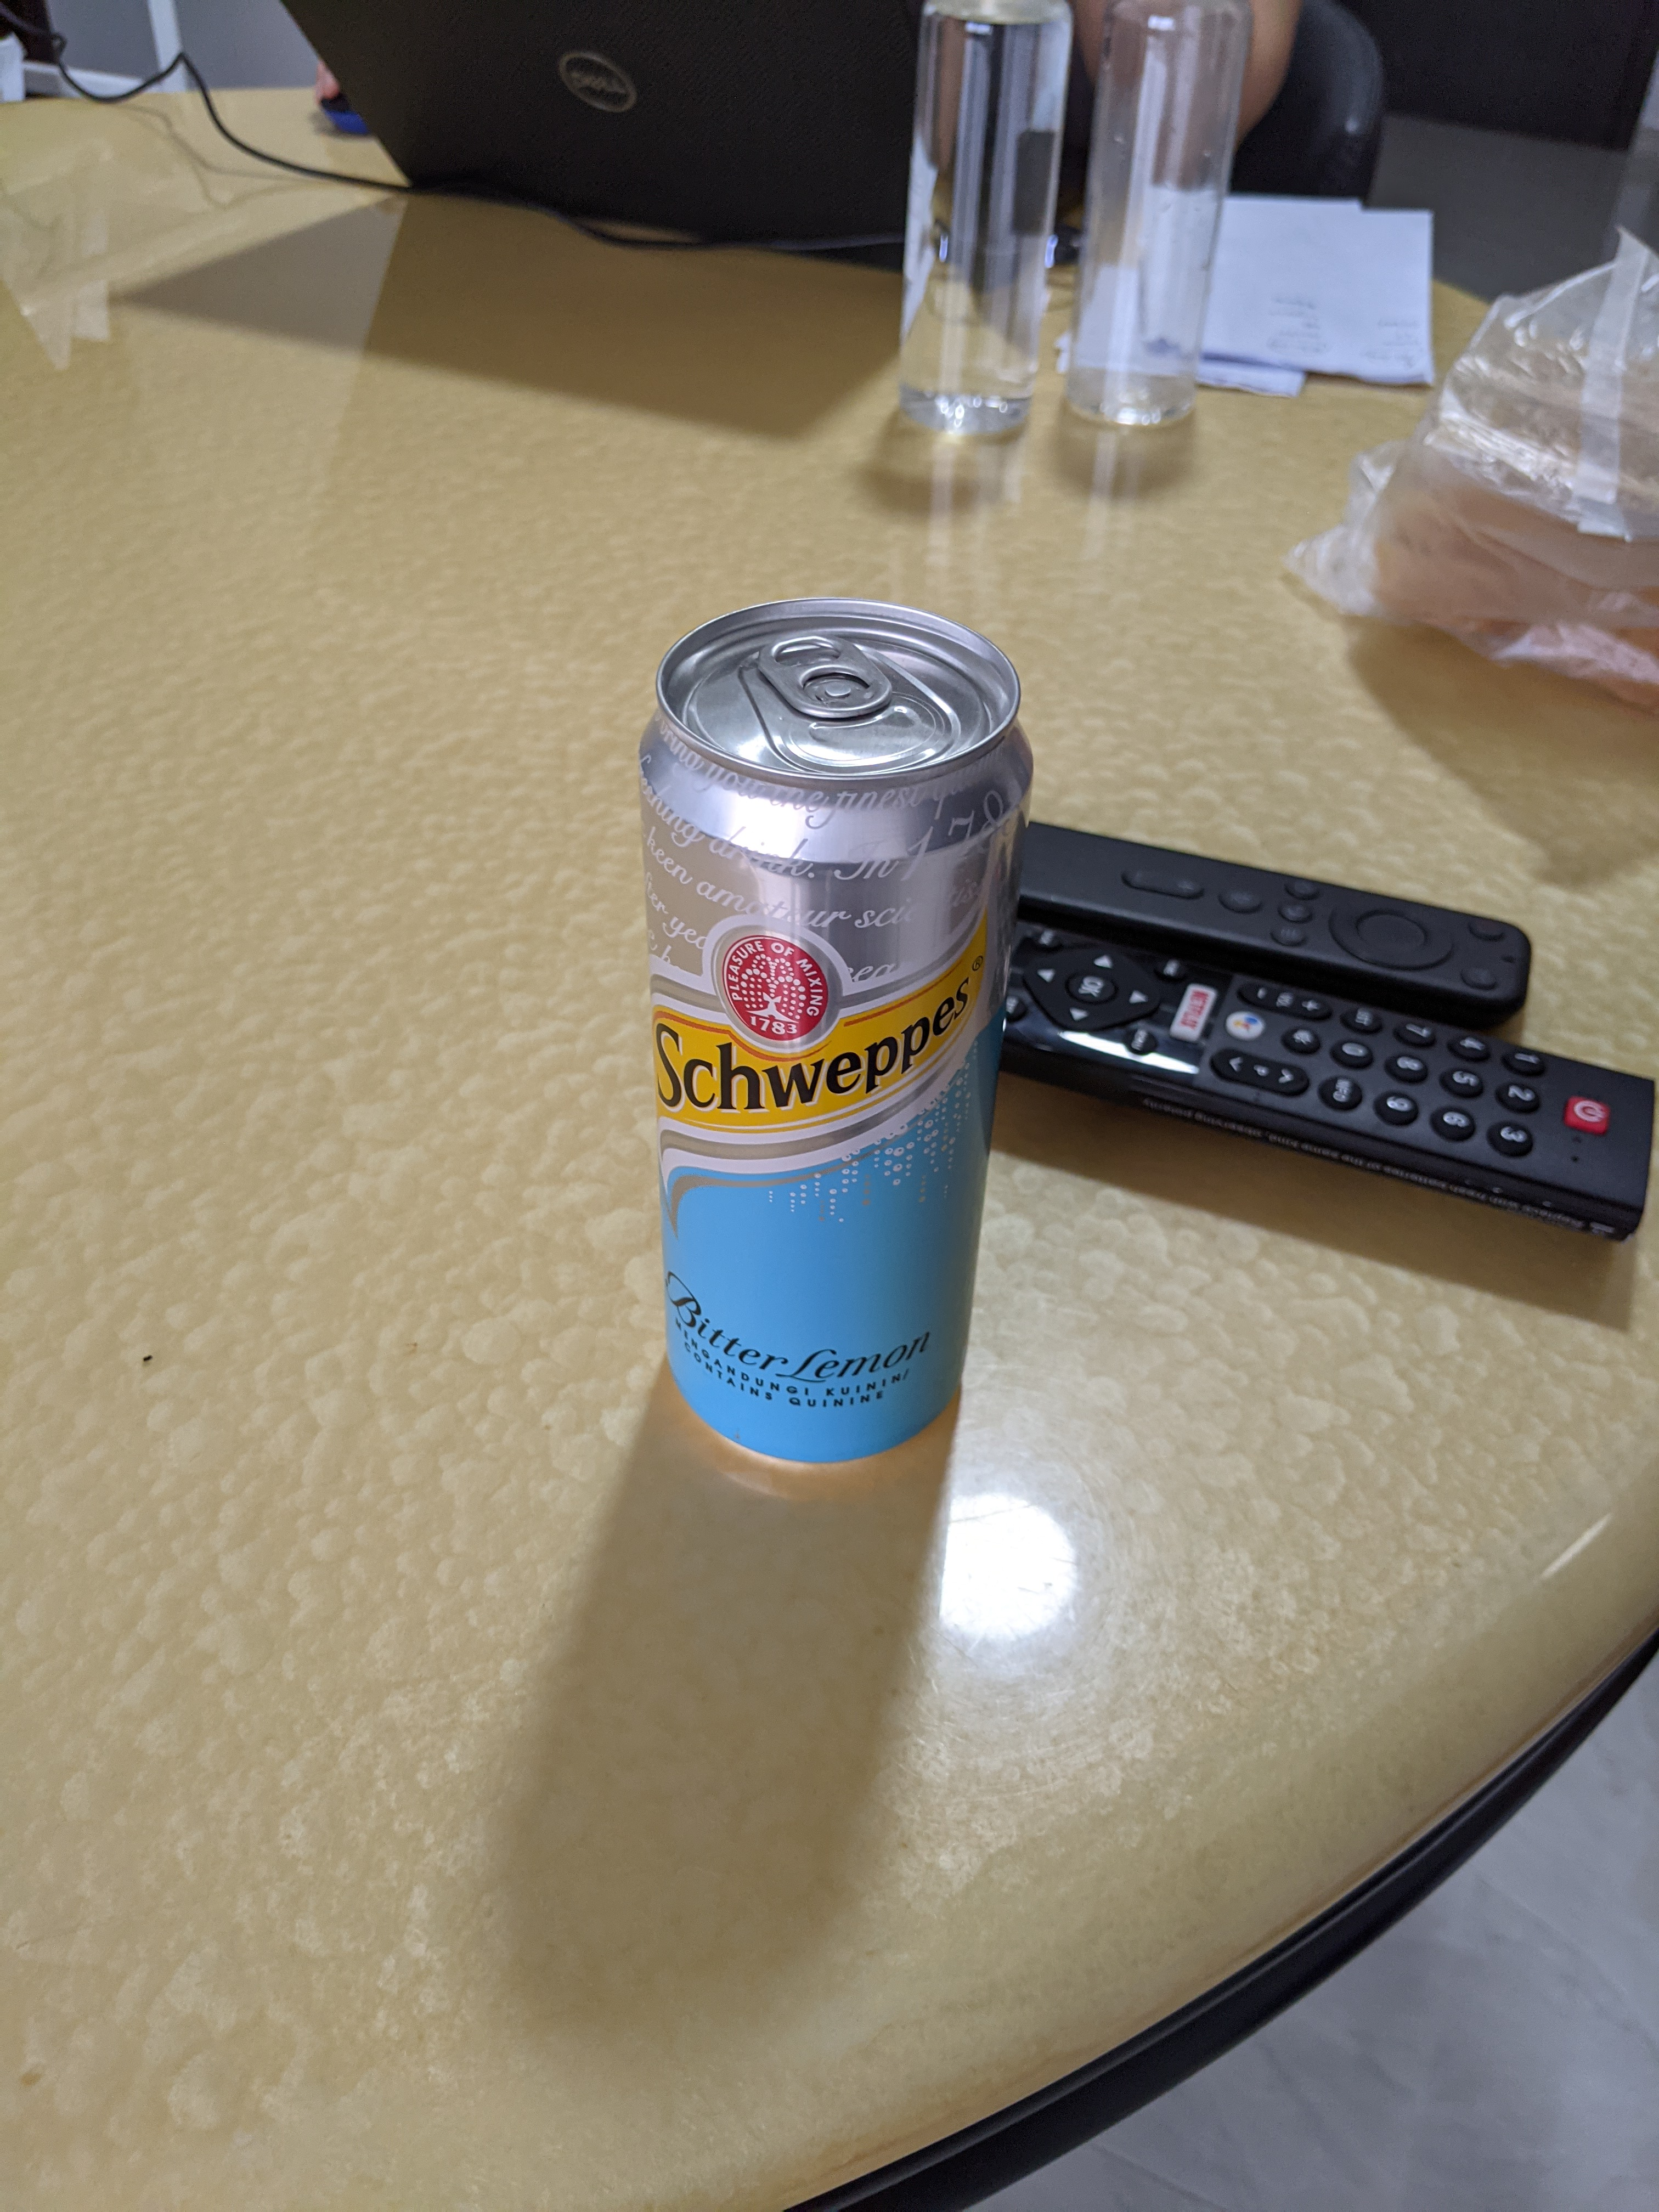schweppes drink can bitter lemon: (619, 575, 1056, 1510)
